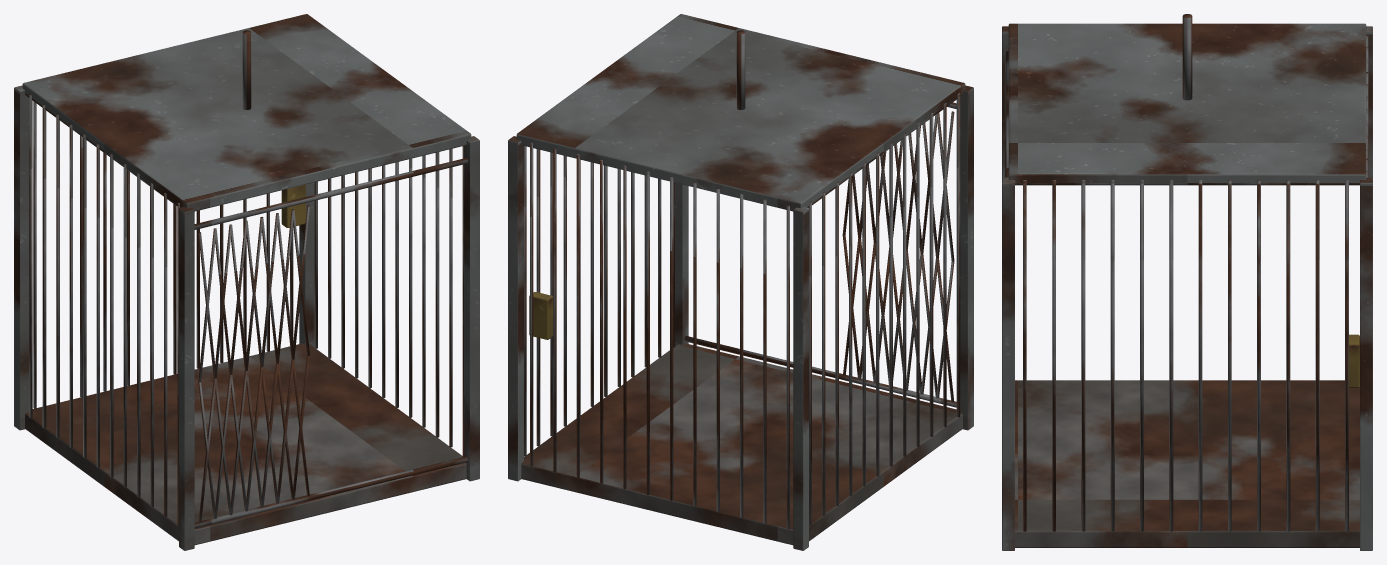
File: F30_freight_elevator_cage.glb
3 views of the same model, side by side, from view 1: azimuth 30°, elevation 25°; view 2: azimuth 150°, elevation 25°; view 3: azimuth 270°, elevation 25° (orthographic). The views are drawn at different scales.
Visible parts, largest first — view 1: F30_freight_elevator_cage; view 2: F30_freight_elevator_cage; view 3: F30_freight_elevator_cage.
Boxes of the visible parts, x1,y1,x2,y2 form: F30_freight_elevator_cage: [14, 14, 479, 550]; F30_freight_elevator_cage: [508, 14, 973, 550]; F30_freight_elevator_cage: [1002, 14, 1372, 550].
Size of the model in its own units: 1.84 by 2.5 by 1.84.
4 materials, 4 textured.
